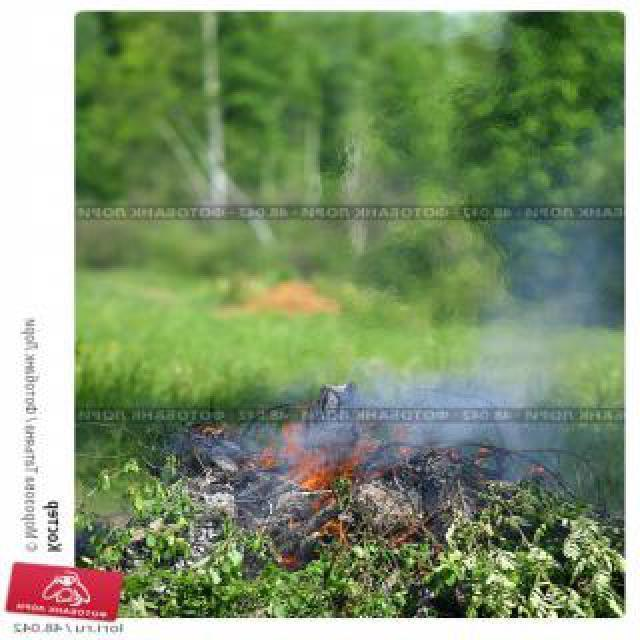Fire: (290, 452, 366, 500)
Smoke: (238, 138, 614, 512)
